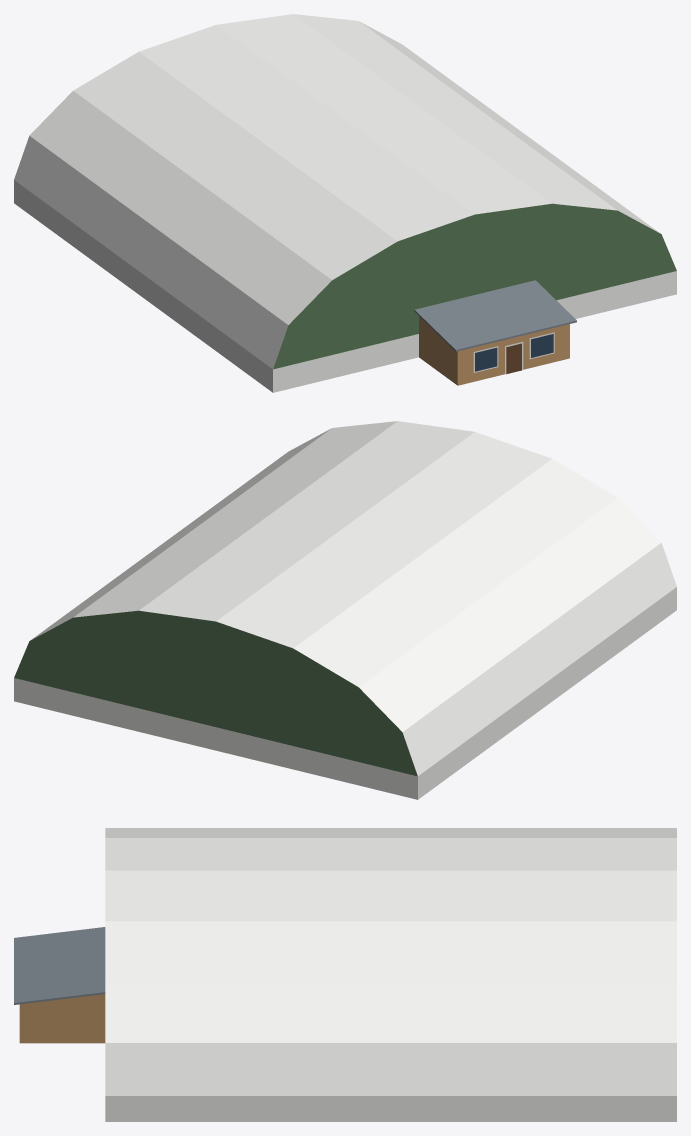
Rendered from halle_tennis.glb.
3 renders of one model, top to bottom at view 1: azimuth 30°, elevation 25°; view 2: azimuth 150°, elevation 25°; view 3: azimuth 270°, elevation 25°, orthographic. The views are drawn at different scales.
Parts seen in each view (by area): view 1: halle_tennis; view 2: halle_tennis; view 3: halle_tennis.
Part boxes in pixels (left/top/right/bottom): halle_tennis: left=14, top=14, right=676, bottom=392; halle_tennis: left=14, top=421, right=676, bottom=799; halle_tennis: left=14, top=828, right=676, bottom=1121.
Bounding box in the file's own units: 36 × 11 × 46.4.
Materials: 1 (1 with a texture image).
